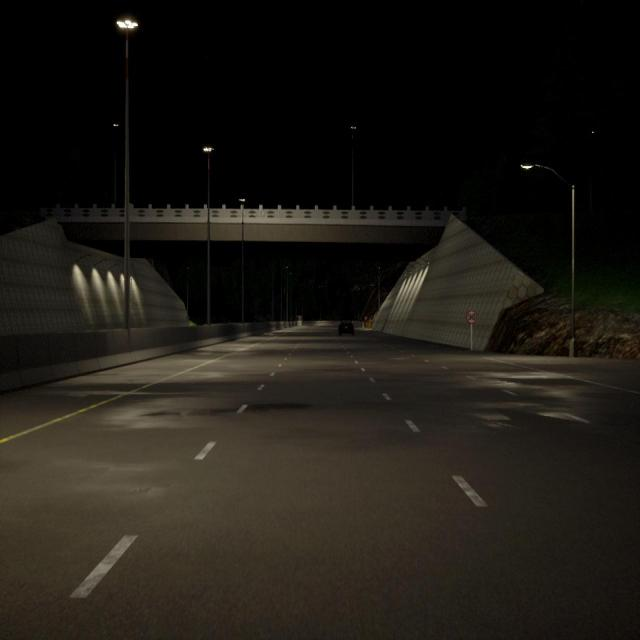Traffic_Signs: (466, 310, 477, 324), (364, 316, 368, 320)
Vehicle: (338, 320, 354, 336)
